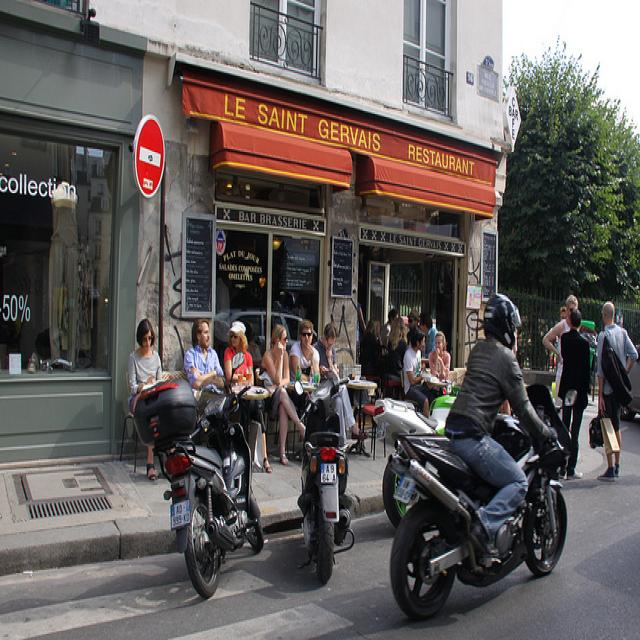motor: (391, 385, 574, 624), (132, 349, 265, 600), (295, 384, 356, 589), (373, 395, 458, 523)
